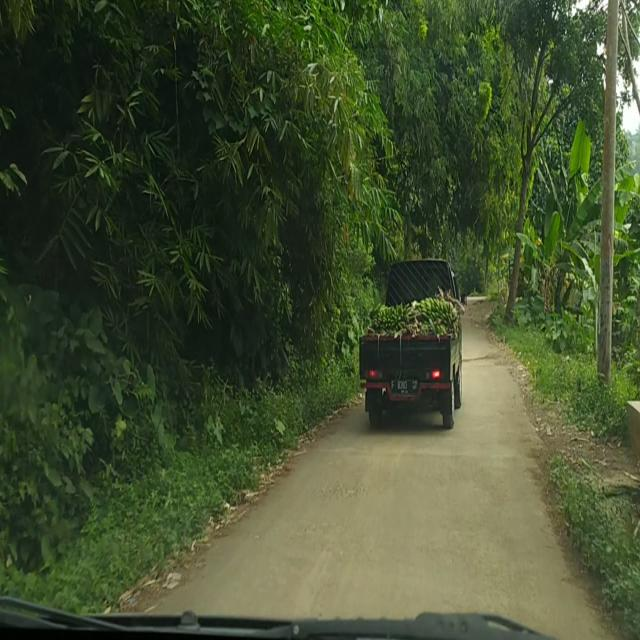Drain Hole: (317, 474, 367, 499)
